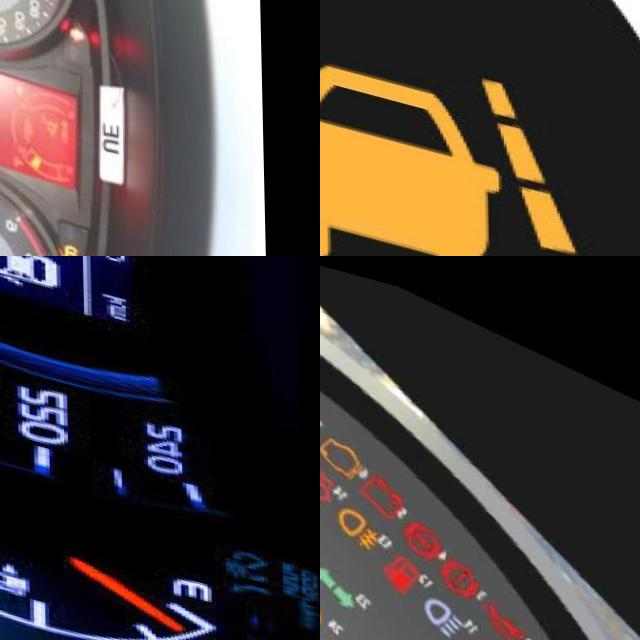Low fuel level: (380, 525, 431, 586)
